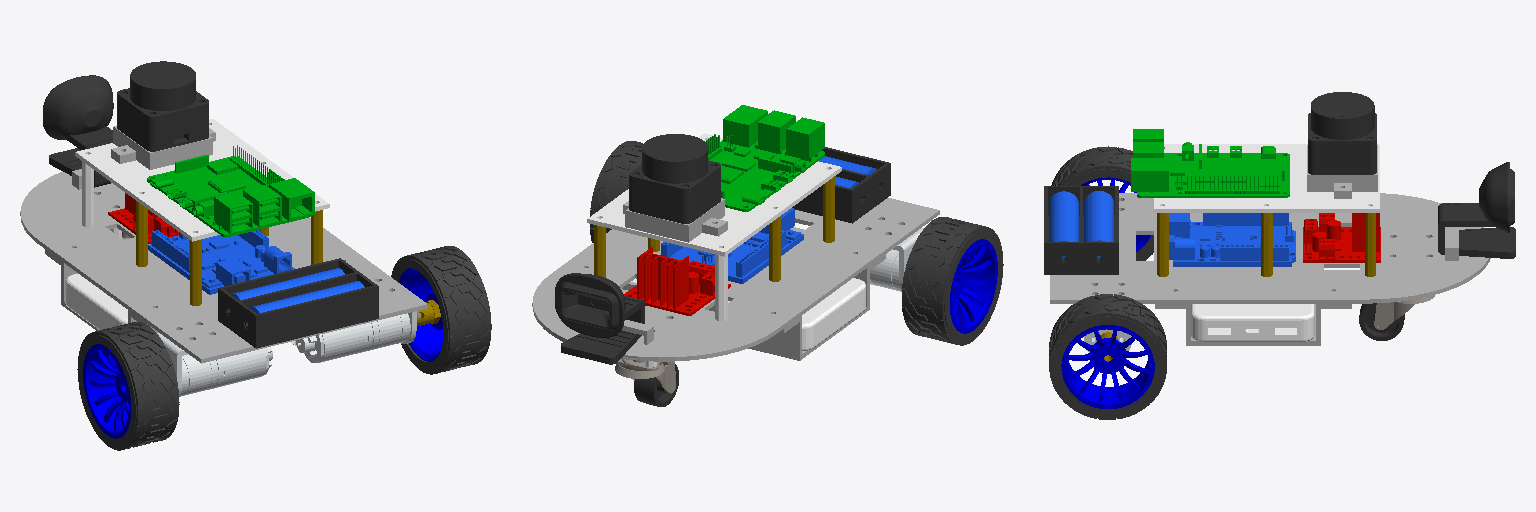
--- Render facts (derived) ---
3 views of the same robot in one strip: view 1: azimuth 30°, elevation 25°; view 2: azimuth 150°, elevation 25°; view 3: azimuth 270°, elevation 25° (orthographic).
Robot: diff_robot_dan_description_core — 40 links, 39 joints (4 continuous, 35 fixed); root link base_link; default pose: all joints at 0.
Visible links, largest first — view 1: base_platform, raspberry, battery_holder, neumatic_left, neumatic_right, lidar, sup_platform, arduino, camera, ring_left, motor_right, motor_left (+11 smaller); view 2: base_platform, raspberry, neumatic_left, lidar, camera, sup_platform, driver, ring_left, battery_holder, arduino, power_bank, neumatic_right (+9 smaller); view 3: base_platform, raspberry, neumatic_right, arduino, sup_platform, lidar, camera, ring_right, power_bank, battery_holder, driver, neumatic_left (+9 smaller).
Boxes of the visible links, bbox=[...] form: base_platform: bbox=[20, 169, 427, 363]; raspberry: bbox=[147, 145, 314, 236]; battery_holder: bbox=[218, 258, 378, 348]; neumatic_left: bbox=[77, 322, 179, 450]; neumatic_right: bbox=[391, 246, 491, 374]; lidar: bbox=[117, 61, 208, 151]; sup_platform: bbox=[75, 119, 329, 241]; arduino: bbox=[148, 230, 294, 294]; camera: bbox=[43, 75, 113, 187]; ring_left: bbox=[83, 344, 130, 438]; motor_right: bbox=[291, 313, 410, 362]; motor_left: bbox=[180, 347, 272, 396]; base_platform: bbox=[532, 198, 939, 361]; raspberry: bbox=[706, 105, 824, 211]; neumatic_left: bbox=[902, 217, 1003, 345]; lidar: bbox=[629, 134, 720, 223]; camera: bbox=[555, 273, 644, 364]; sup_platform: bbox=[587, 133, 841, 256]; driver: bbox=[624, 247, 730, 315]; ring_left: bbox=[950, 239, 997, 333]; battery_holder: bbox=[792, 147, 890, 223]; arduino: bbox=[661, 208, 803, 283]; power_bank: bbox=[631, 278, 865, 350]; neumatic_right: bbox=[590, 141, 642, 242]; base_platform: bbox=[1050, 193, 1490, 303]; raspberry: bbox=[1131, 129, 1289, 197]; neumatic_right: bbox=[1049, 294, 1166, 419]; arduino: bbox=[1169, 213, 1295, 266]; sup_platform: bbox=[1154, 144, 1379, 212]; lidar: bbox=[1308, 92, 1376, 174]; camera: bbox=[1438, 162, 1515, 258]; ring_right: bbox=[1061, 325, 1154, 408]; power_bank: bbox=[1191, 304, 1314, 341]; battery_holder: bbox=[1044, 186, 1118, 274]; driver: bbox=[1303, 213, 1380, 262]; neumatic_left: bbox=[1051, 146, 1153, 260].
Bounding box of the posed robot: 0.2193 × 0.2608 × 0.1419 m (x, y, z).
Meshes: 39 distinct files referenced, 39 mesh visuals loaded (39 binary STL).

URDF robot description (diff_robot_dan_description_core):
<?xml version="1.0" encoding="utf-8"?>
<robot
  name="diff_robot_dan_description_core" 
  xmlns:xacro="http://www.ros.org/wiki/xacro">

  <link name="base_link"/>
  
  <link
    name="base_platform">
    <inertial>
      <origin
        xyz="-4.2767E-06 0.029905 0.0013432"
        rpy="0 0 0" />
      <mass
        value="0.08062" />
      <inertia
        ixx="0.00037375"
        ixy="-1.0976E-08"
        ixz="-2.7281E-11"
        iyy="0.00012439"
        iyz="-7.8943E-07"
        izz="0.00049795" />
    </inertial>
    <visual>
      <origin
        xyz="0 0 0"
        rpy="0 0 0" />
      <geometry>
        <mesh
          filename="package://diff_robot_dan_description/meshes/base_platform.STL" />
      </geometry>
      <material
        name="">
        <color
          rgba="0.75294 0.75294 0.75294 1" />
      </material>
    </visual>
    <collision>
      <origin
        xyz="0 0 0"
        rpy="0 0 0" />
      <geometry>
        <mesh
          filename="package://diff_robot_dan_description/meshes/base_platform.STL" />
      </geometry>
    </collision>
  </link>

  <joint
    name="base_joint"
    type="fixed">
    <origin
      xyz="0 0 0"
      rpy="0 0 0" />
    <parent
      link="base_link" />
    <child
      link="base_platform" />
    <axis
      xyz="0 0 0" />
  </joint> 

  <link
    name="motor_support_left">
    <inertial>
      <origin
        xyz="4.3741E-08 0.0086356 0.0087139"
        rpy="0 0 0" />
      <mass
        value="0.011753" />
      <inertia
        ixx="2.3658E-06"
        ixy="-4.3673E-12"
        ixz="-2.8469E-11"
        iyy="1.7995E-06"
        iyz="-6.6689E-07"
        izz="1.9957E-06" />
    </inertial>
    <visual>
      <origin
        xyz="0 0 0"
        rpy="0 0 0" />
      <geometry>
        <mesh
          filename="package://diff_robot_dan_description/meshes/motor_support_left.STL" />
      </geometry>
      <material
        name="">
        <color
          rgba="0.89804 0.91765 0.92941 1" />
      </material>
    </visual>
    <collision>
      <origin
        xyz="0 0 0"
        rpy="0 0 0" />
      <geometry>
        <mesh
          filename="package://diff_robot_dan_description/meshes/motor_support_left.STL" />
      </geometry>
    </collision>
  </link>
  <joint
    name="support_left_to_base"
    type="fixed">
    <origin
      xyz="-0.05605 -0.05525 0"
      rpy="3.1416 0 -1.5708" />
    <parent
      link="base_platform" />
    <child
      link="motor_support_left" />
    <axis
      xyz="0 0 0" />
  </joint>
  <link
    name="motor_left">
    <inertial>
      <origin
        xyz="-7.2844E-06 -2.8965E-06 -0.0017141"
        rpy="0 0 0" />
      <mass
        value="0.069439" />
      <inertia
        ixx="2.1098E-05"
        ixy="-3.9135E-09"
        ixz="-3.1834E-09"
        iyy="2.1088E-05"
        iyz="-1.4966E-08"
        izz="4.9519E-06" />
    </inertial>
    <visual>
      <origin
        xyz="0 0 0"
        rpy="0 0 0" />
      <geometry>
        <mesh
          filename="package://diff_robot_dan_description/meshes/motor_left.STL" />
      </geometry>
      <material
        name="">
        <color
          rgba="0.89804 0.91765 0.92941 1" />
      </material>
    </visual>
    <collision>
      <origin
        xyz="0 0 0"
        rpy="0 0 0" />
      <geometry>
        <mesh
          filename="package://diff_robot_dan_description/meshes/motor_left.STL" />
      </geometry>
    </collision>
  </link>
  <joint
    name="motor_left_to_motor_support"
    type="fixed">
    <origin
      xyz="0 -0.01155 0.020153"
      rpy="-1.5708 -1.5582 0" />
    <parent
      link="motor_support_left" />
    <child
      link="motor_left" />
    <axis
      xyz="0 0 0" />
  </joint>
  <link
    name="shaft_left">
    <inertial>
      <origin
        xyz="9.3516E-05 -4.0811E-09 0.0062268"
        rpy="0 0 0" />
      <mass
        value="0.0012091" />
      <inertia
        ixx="1.7661E-08"
        ixy="-8.7073E-14"
        ixz="-2.7402E-10"
        iyy="1.7488E-08"
        iyz="-1.1687E-13"
        izz="2.3255E-09" />
    </inertial>
    <visual>
      <origin
        xyz="0 0 0"
        rpy="0 0 0" />
      <geometry>
        <mesh
          filename="package://diff_robot_dan_description/meshes/shaft_left.STL" />
      </geometry>
      <material
        name="">
        <color
          rgba="0.64706 0.61961 0.58824 1" />
      </material>
    </visual>
    <collision>
      <origin
        xyz="0 0 0"
        rpy="0 0 0" />
      <geometry>
        <mesh
          filename="package://diff_robot_dan_description/meshes/shaft_left.STL" />
      </geometry>
    </collision>
  </link>
  <joint
    name="shaft_left_to_motor"
    type="continuous">
    <origin
      xyz="9.7282E-05 0 0.026545"
      rpy="0 0 -1.3474" />
    <parent
      link="motor_left" />
    <child
      link="shaft_left" />
    <axis
      xyz="0 0 1" />
    <limit
      effort="1.0297"
      velocity="10.742" />
  </joint>
  <link
    name="coupling_left">
    <inertial>
      <origin
        xyz="-1.758E-08 0.011432 -5.9284E-10"
        rpy="0 0 0" />
      <mass
        value="0.015207" />
      <inertia
        ixx="7.3793E-07"
        ixy="-2.821E-12"
        ixz="4.7539E-13"
        iyy="2.7775E-07"
        iyz="-2.0427E-12"
        izz="7.4797E-07" />
    </inertial>
    <visual>
      <origin
        xyz="0 0 0"
        rpy="0 0 0" />
      <geometry>
        <mesh
          filename="package://diff_robot_dan_description/meshes/coupling_left.STL" />
      </geometry>
      <material
        name="">
        <color
          rgba="0.64706 0.51765 0 1" />
      </material>
    </visual>
    <collision>
      <origin
        xyz="0 0 0"
        rpy="0 0 0" />
      <geometry>
        <mesh
          filename="package://diff_robot_dan_description/meshes/coupling_left.STL" />
      </geometry>
    </collision>
  </link>
  <joint
    name="coupling_left_to_motor"
    type="fixed">
    <origin
      xyz="0 0 0.0046"
      rpy="1.5708 0 1.7908" />
    <parent
      link="shaft_left" />
    <child
      link="coupling_left" />
    <axis
      xyz="0 0 0" />
  </joint>
  <link
    name="ring_left">
    <inertial>
      <origin
        xyz="1.4681E-08 -0.0013913 3.3977E-09"
        rpy="0 0 0" />
      <mass
        value="0.010918" />
      <inertia
        ixx="2.9186E-06"
        ixy="-5.2164E-12"
        ixz="-9.9865E-13"
        iyy="4.8444E-06"
        iyz="9.3002E-12"
        izz="2.9187E-06" />
    </inertial>
    <visual>
      <origin
        xyz="0 0 0"
        rpy="0 0 0" />
      <geometry>
        <mesh
          filename="package://diff_robot_dan_description/meshes/ring_left.STL" />
      </geometry>
      <material
        name="">
        <color
          rgba="0 0 1 1" />
      </material>
    </visual>
    <collision>
      <origin
        xyz="0 0 0"
        rpy="0 0 0" />
      <geometry>
        <mesh
          filename="package://diff_robot_dan_description/meshes/ring_left.STL" />
      </geometry>
    </collision>
  </link>
  <joint
    name="ring_left_to_coupling"
    type="fixed">
    <origin
      xyz="0 0.021355 0"
      rpy="3.1416 0 0" />
    <parent
      link="coupling_left" />
    <child
      link="ring_left" />
    <axis
      xyz="0 0 0" />
  </joint>
  <link
    name="neumatic_left">
    <inertial>
      <origin
        xyz="-5.051E-08 -1.2407E-06 -3.994E-10"
        rpy="0 0 0" />
      <mass
        value="0.039917" />
      <inertia
        ixx="1.9377E-05"
        ixy="2.9484E-13"
        ixz="1.4146E-13"
        iyy="3.4105E-05"
        iyz="6.8997E-12"
        izz="1.9378E-05" />
    </inertial>
    <visual>
      <origin
        xyz="0 0 0"
        rpy="0 0 0" />
      <geometry>
        <mesh
          filename="package://diff_robot_dan_description/meshes/neumatic_left.STL" />
      </geometry>
      <material
        name="">
        <color
          rgba="0.29804 0.29804 0.29804 1" />
      </material>
    </visual>
    <collision>
      <origin
        xyz="0 0 0"
        rpy="0 0 0" />
      <geometry>
        <mesh
          filename="package://diff_robot_dan_description/meshes/neumatic_left.STL" />
      </geometry>
    </collision>
  </link>
  <joint
    name="neumatic_left_to_ring"
    type="fixed">
    <origin
      xyz="-8.7612E-05 0.00055 4.2289E-05"
      rpy="-3.1416 -0.4497 3.1416" />
    <parent
      link="ring_left" />
    <child
      link="neumatic_left" />
    <axis
      xyz="0 0 0" />
  </joint>
  <link
    name="motor_support_right">
    <inertial>
      <origin
        xyz="4.3741E-08 0.0086356 0.0087139"
        rpy="0 0 0" />
      <mass
        value="0.011753" />
      <inertia
        ixx="2.3658E-06"
        ixy="-4.3673E-12"
        ixz="-2.8469E-11"
        iyy="1.7995E-06"
        iyz="-6.6689E-07"
        izz="1.9957E-06" />
    </inertial>
    <visual>
      <origin
        xyz="0 0 0"
        rpy="0 0 0" />
      <geometry>
        <mesh
          filename="package://diff_robot_dan_description/meshes/motor_support_right.STL" />
      </geometry>
      <material
        name="">
        <color
          rgba="0.89804 0.91765 0.92941 1" />
      </material>
    </visual>
    <collision>
      <origin
        xyz="0 0 0"
        rpy="0 0 0" />
      <geometry>
        <mesh
          filename="package://diff_robot_dan_description/meshes/motor_support_right.STL" />
      </geometry>
    </collision>
  </link>
  <joint
    name="support_right_to_base"
    type="fixed">
    <origin
      xyz="0.05605 -0.05525 0"
      rpy="-3.1416 0 1.5708" />
    <parent
      link="base_platform" />
    <child
      link="motor_support_right" />
    <axis
      xyz="0 0 0" />
  </joint>
  <link
    name="motor_right">
    <inertial>
      <origin
        xyz="-7.2843E-06 -2.8966E-06 -0.0017141"
        rpy="0 0 0" />
      <mass
        value="0.069439" />
      <inertia
        ixx="2.1098E-05"
        ixy="-3.9135E-09"
        ixz="-3.1834E-09"
        iyy="2.1088E-05"
        iyz="-1.4966E-08"
        izz="4.9519E-06" />
    </inertial>
    <visual>
      <origin
        xyz="0 0 0"
        rpy="0 0 0" />
      <geometry>
        <mesh
          filename="package://diff_robot_dan_description/meshes/motor_right.STL" />
      </geometry>
      <material
        name="">
        <color
          rgba="0.89804 0.91765 0.92941 1" />
      </material>
    </visual>
    <collision>
      <origin
        xyz="0 0 0"
        rpy="0 0 0" />
      <geometry>
        <mesh
          filename="package://diff_robot_dan_description/meshes/motor_right.STL" />
      </geometry>
    </collision>
  </link>
  <joint
    name="motor_right_to_support"
    type="fixed">
    <origin
      xyz="0 -0.01155 0.02025"
      rpy="1.5708 1.5708 -3.1416" />
    <parent
      link="motor_support_right" />
    <child
      link="motor_right" />
    <axis
      xyz="0 0 0" />
  </joint>
  <link
    name="shaft_right">
    <inertial>
      <origin
        xyz="9.35164931870833E-05 3.3094464453598E-08 0.0062267898913865"
        rpy="0 0 0" />
      <mass
        value="0.00120914331428052" />
      <inertia
        ixx="1.76613856649872E-08"
        ixy="-8.69060362380142E-14"
        ixz="-2.74018364433886E-10"
        iyy="1.74883320817116E-08"
        iyz="-1.1666347166096E-13"
        izz="2.32545172058691E-09" />
    </inertial>
    <visual>
      <origin
        xyz="0 0 0"
        rpy="0 0 0" />
      <geometry>
        <mesh
          filename="package://diff_robot_dan_description/meshes/shaft_right.STL" />
      </geometry>
      <material
        name="">
        <color
          rgba="0.647058823529412 0.619607843137255 0.588235294117647 1" />
      </material>
    </visual>
    <collision>
      <origin
        xyz="0 0 0"
        rpy="0 0 0" />
      <geometry>
        <mesh
          filename="package://diff_robot_dan_description/meshes/shaft_right.STL" />
      </geometry>
    </collision>
  </link>
  <joint
    name="shaft_right_to_motor"
    type="continuous">
    <origin
      xyz="0 0 0.026545"
      rpy="0 0 -1.8068" />
    <parent
      link="motor_right" />
    <child
      link="shaft_right" />
    <axis
      xyz="0 0 1" />
    <limit
      effort="1.0297"
      velocity="10.472" />
  </joint>
  <link
    name="coupling_right">
    <inertial>
      <origin
        xyz="-1.73707862399786E-08 0.0114319692475676 -3.0039553483574E-10"
        rpy="0 0 0" />
      <mass
        value="0.0152069037997272" />
      <inertia
        ixx="7.37926487293068E-07"
        ixy="-2.80610855598411E-12"
        ixz="4.83132664105218E-13"
        iyy="2.77753480931107E-07"
        iyz="-2.03744847744167E-12"
        izz="7.47968244758709E-07" />
    </inertial>
    <visual>
      <origin
        xyz="0 0 0"
        rpy="0 0 0" />
      <geometry>
        <mesh
          filename="package://diff_robot_dan_description/meshes/coupling_right.STL" />
      </geometry>
      <material
        name="">
        <color
          rgba="0.647058823529412 0.517647058823529 0 1" />
      </material>
    </visual>
    <collision>
      <origin
        xyz="0 0 0"
        rpy="0 0 0" />
      <geometry>
        <mesh
          filename="package://diff_robot_dan_description/meshes/coupling_right.STL" />
      </geometry>
    </collision>
  </link>
  <joint
    name="copling_right_to_shaft"
    type="fixed">
    <origin
      xyz="0 0 0.0046"
      rpy="1.5708 0 -1.7908" />
    <parent
      link="shaft_right" />
    <child
      link="coupling_right" />
    <axis
      xyz="0 0 0" />
  </joint>
  <link
    name="ring_right">
    <inertial>
      <origin
        xyz="1.4681E-08 -0.0013913 3.3977E-09"
        rpy="0 0 0" />
      <mass
        value="0.010918" />
      <inertia
        ixx="2.9186E-06"
        ixy="-5.2164E-12"
        ixz="-9.9865E-13"
        iyy="4.8444E-06"
        iyz="9.3002E-12"
        izz="2.9187E-06" />
    </inertial>
    <visual>
      <origin
        xyz="0 0 0"
        rpy="0 0 0" />
      <geometry>
        <mesh
          filename="package://diff_robot_dan_description/meshes/ring_right.STL" />
      </geometry>
      <material
        name="">
        <color
          rgba="0 0 1 1" />
      </material>
    </visual>
    <collision>
      <origin
        xyz="0 0 0"
        rpy="0 0 0" />
      <geometry>
        <mesh
          filename="package://diff_robot_dan_description/meshes/ring_right.STL" />
      </geometry>
    </collision>
  </link>
  <joint
    name="ring_right_to_coupling"
    type="fixed">
    <origin
      xyz="0 0.021355 0"
      rpy="3.1416 0 0" />
    <parent
      link="coupling_right" />
    <child
      link="ring_right" />
    <axis
      xyz="0 0 0" />
  </joint>
  <link
    name="neumatic_right">
    <inertial>
      <origin
        xyz="-5.04288356628635E-08 -1.24068466458849E-06 -4.29302794702213E-10"
        rpy="0 0 0" />
      <mass
        value="0.039916568660989" />
      <inertia
        ixx="1.93774188193623E-05"
        ixy="2.86801069507243E-13"
        ixz="1.46766810443803E-13"
        iyy="3.41045674039519E-05"
        iyz="6.90707373043649E-12"
        izz="1.9377801310557E-05" />
    </inertial>
    <visual>
      <origin
        xyz="0 0 0"
        rpy="0 0 0" />
      <geometry>
        <mesh
          filename="package://diff_robot_dan_description/meshes/neumatic_right.STL" />
      </geometry>
      <material
        name="">
        <color
          rgba="0.298039215686275 0.298039215686275 0.298039215686275 1" />
      </material>
    </visual>
    <collision>
      <origin
        xyz="0 0 0"
        rpy="0 0 0" />
      <geometry>
        <mesh
          filename="package://diff_robot_dan_description/meshes/neumatic_right.STL" />
      </geometry>
    </collision>
  </link>
  <joint
    name="neumatic_right_to_ring"
    type="fixed">
    <origin
      xyz="0 0.00055 0"
      rpy="0 -0.4497 0" />
    <parent
      link="ring_right" />
    <child
      link="neumatic_right" />
    <axis
      xyz="0 0 0" />
  </joint>
  <link
    name="battery_holder">
    <inertial>
      <origin
        xyz="-1.9815E-10 4.9468E-10 0.0069931"
        rpy="0 0 0" />
      <mass
        value="0.021448" />
      <inertia
        ixx="4.8979E-06"
        ixy="1.0061E-14"
        ixz="2.4403E-11"
        iyy="1.3843E-05"
        iyz="-6.5693E-15"
        izz="1.7136E-05" />
    </inertial>
    <visual>
      <origin
        xyz="0 0 0"
        rpy="0 0 0" />
      <geometry>
        <mesh
          filename="package://diff_robot_dan_description/meshes/battery_holder.STL" />
      </geometry>
      <material
        name="">
        <color
          rgba="0.25098 0.25098 0.25098 1" />
      </material>
    </visual>
    <collision>
      <origin
        xyz="0 0 0"
        rpy="0 0 0" />
      <geometry>
        <mesh
          filename="package://diff_robot_dan_description/meshes/battery_holder.STL" />
      </geometry>
    </collision>
  </link>
  <joint
    name="battery_to_base"
    type="fixed">
    <origin
      xyz="0 -0.07 0.0025"
      rpy="0 0 0" />
    <parent
      link="base_platform" />
    <child
      link="battery_holder" />
    <axis
      xyz="0 0 0" />
  </joint>
  <link
    name="battery_1">
    <inertial>
      <origin
        xyz="1.398E-08 1.9976E-09 0.00024774"
        rpy="0 0 0" />
      <mass
        value="0.16303" />
      <inertia
        ixx="6.0905E-05"
        ixy="5.9989E-13"
        ixz="-4.06E-11"
        iyy="6.0905E-05"
        iyz="-3.4902E-11"
        izz="5.8658E-06" />
    </inertial>
    <visual>
      <origin
        xyz="0 0 0"
        rpy="0 0 0" />
      <geometry>
        <mesh
          filename="package://diff_robot_dan_description/meshes/battery_1.STL" />
      </geometry>
      <material
        name="">
        <color
          rgba="0.161 0.435 1 1" />
      </material>
    </visual>
    <collision>
      <origin
        xyz="0 0 0"
        rpy="0 0 0" />
      <geometry>
        <mesh
          filename="package://diff_robot_dan_description/meshes/battery_1.STL" />
      </geometry>
    </collision>
  </link>
  <joint
    name="battery_1_to_holder"
    type="fixed">
    <origin
      xyz="0 -0.00975 0.01"
      rpy="-1.5708 0 -1.5708" />
    <parent
      link="battery_holder" />
    <child
      link="battery_1" />
    <axis
      xyz="0 0 1" />
  </joint>
  <link
    name="battery_2">
    <inertial>
      <origin
        xyz="1.398E-08 -1.9976E-09 -0.00024774"
        rpy="0 0 0" />
      <mass
        value="0.16303" />
      <inertia
        ixx="6.0905E-05"
        ixy="-5.9989E-13"
        ixz="4.06E-11"
        iyy="6.0905E-05"
        iyz="-3.4902E-11"
        izz="5.8658E-06" />
    </inertial>
    <visual>
      <origin
        xyz="0 0 0"
        rpy="0 0 0" />
      <geometry>
        <mesh
          filename="package://diff_robot_dan_description/meshes/battery_2.STL" />
      </geometry>
      <material
        name="">
        <color
          rgba="0.161 0.435 1 1" />
      </material>
    </visual>
    <collision>
      <origin
        xyz="0 0 0"
        rpy="0 0 0" />
      <geometry>
        <mesh
          filename="package://diff_robot_dan_description/meshes/battery_2.STL" />
      </geometry>
    </collision>
  </link>
  <joint
    name="battery_2_to_holder"
    type="fixed">
    <origin
      xyz="0 0.00975 0.01"
      rpy="1.5708 0 1.5708" />
    <parent
      link="battery_holder" />
    <child
      link="battery_2" />
    <axis
      xyz="0 0 1" />
  </joint>
  <link
    name="arduino">
    <inertial>
      <origin
        xyz="-0.0038426 0.0032752 -6.6854E-05"
        rpy="0 0 0" />
      <mass
        value="0.036702" />
      <inertia
        ixx="1.0144E-05"
        ixy="5.699E-07"
        ixz="-1.3819E-07"
        iyy="2.5461E-05"
        iyz="2.0305E-08"
        izz="1.6029E-05" />
    </inertial>
    <visual>
      <origin
        xyz="0 0 0"
        rpy="0 0 0" />
      <geometry>
        <mesh
          filename="package://diff_robot_dan_description/meshes/arduino.STL" />
      </geometry>
      <material
        name="">
        <color
          rgba="0.161 0.435 1 1" />
      </material>
    </visual>
    <collision>
      <origin
        xyz="0 0 0"
        rpy="0 0 0" />
      <geometry>
        <mesh
          filename="package://diff_robot_dan_description/meshes/arduino.STL" />
      </geometry>
    </collision>
  </link>
  <joint
    name="arduino_to_base"
    type="fixed">
    <origin
      xyz="0.001 0.0149 0.0025"
      rpy="1.5708 0 1.5708" />
    <parent
      link="base_platform" />
    <child
      link="arduino" />
    <axis
      xyz="0 0 0" />
  </joint>
  <link
    name="driver">
    <inertial>
      <origin
        xyz="-0.00053794 0.0010488 0.0067706"
        rpy="0 0 0" />
      <mass
        value="0.021255" />
      <inertia
        ixx="4.3343E-06"
        ixy="-1.4594E-07"
        ixz="-3.4291E-09"
        iyy="3.3344E-06"
        iyz="-7.0259E-07"
        izz="5.8242E-06" />
    </inertial>
    <visual>
      <origin
        xyz="0 0 0"
        rpy="0 0 0" />
      <geometry>
        <mesh
          filename="package://diff_robot_dan_description/meshes/driver.STL" />
      </geometry>
      <material
        name="">
        <color
          rgba="0.894 0.039 0 1" />
      </material>
    </visual>
    <collision>
      <origin
        xyz="0 0 0"
        rpy="0 0 0" />
      <geometry>
        <mesh
          filename="package://diff_robot_dan_description/meshes/driver.STL" />
      </geometry>
    </collision>
  </link>
  <joint
    name="driver_to_base"
    type="fixed">
    <origin
      xyz="0 0.07415 0.0025"
      rpy="0 0 0" />
    <parent
      link="base_platform" />
    <child
      link="driver" />
    <axis
      xyz="0 0 0" />
  </joint>
  <link
    name="hex_support_s1">
    <inertial>
      <origin
        xyz="-3.873E-08 -1.4267E-09 0.0089627"
        rpy="0 0 0" />
      <mass
        value="0.00039676" />
      <inertia
        ixx="1.1512E-08"
        ixy="3.4795E-15"
        ixz="1.7979E-15"
        iyy="1.1511E-08"
        iyz="5.6571E-15"
        izz="1.948E-09" />
    </inertial>
    <visual>
      <origin
        xyz="0 0 0"
        rpy="0 0 0" />
      <geometry>
        <mesh
          filename="package://diff_robot_dan_description/meshes/hex_support_s1.STL" />
      </geometry>
      <material
        name="">
        <color
          rgba="1 1 1 1" />
      </material>
    </visual>
    <collision>
      <origin
        xyz="0 0 0"
        rpy="0 0 0" />
      <geometry>
        <mesh
          filename="package://diff_robot_dan_description/meshes/hex_support_s1.STL" />
      </geometry>
    </collision>
  </link>
  <joint
    name="hex_support_s1_to_base"
    type="fixed">
    <origin
      xyz="0.01285 0.1025 0"
      rpy="-3.1416 0 0.5236" />
    <parent
      link="base_platform" />
    <child
      link="hex_support_s1" />
    <axis
      xyz="0 0 0" />
  </joint>
  <link
    name="hex_support_s2">
    <inertial>
      <origin
        xyz="-3.873E-08 -1.4267E-09 0.0089627"
        rpy="0 0 0" />
      <mass
        value="0.00039676" />
      <inertia
        ixx="1.1512E-08"
        ixy="3.4795E-15"
        ixz="1.7979E-15"
        iyy="1.1511E-08"
        iyz="5.6571E-15"
        izz="1.948E-09" />
    </inertial>
    <visual>
      <origin
        xyz="0 0 0"
        rpy="0 0 0" />
      <geometry>
        <mesh
          filename="package://diff_robot_dan_description/meshes/hex_support_s2.STL" />
      </geometry>
      <material
        name="">
        <color
          rgba="1 1 1 1" />
      </material>
    </visual>
    <collision>
      <origin
        xyz="0 0 0"
        rpy="0 0 0" />
      <geometry>
        <mesh
          filename="package://diff_robot_dan_description/meshes/hex_support_s2.STL" />
      </geometry>
    </collision>
  </link>
  <joint
    name="hex_support_s2_to_base"
    type="fixed">
    <origin
      xyz="0.01285 0.1225 -0.0179"
      rpy="0 0 -0.5236" />
    <parent
      link="base_platform" />
    <child
      link="hex_support_s2" />
    <axis
      xyz="0 0 0" />
  </joint>
  <link
    name="hex_support_s3">
    <inertial>
      <origin
        xyz="-3.7544E-08 -2.1128E-09 0.0089627"
        rpy="0 0 0" />
      <mass
        value="0.00039676" />
      <inertia
        ixx="1.1512E-08"
        ixy="3.3218E-15"
        ixz="1.8189E-15"
        iyy="1.1511E-08"
        iyz="5.6406E-15"
        izz="1.948E-09" />
    </inertial>
    <visual>
      <origin
        xyz="0 0 0"
        rpy="0 0 0" />
      <geometry>
        <mesh
          filename="package://diff_robot_dan_description/meshes/hex_support_s3.STL" />
      </geometry>
      <material
        name="">
        <color
          rgba="1 1 1 1" />
      </material>
    </visual>
    <collision>
      <origin
        xyz="0 0 0"
        rpy="0 0 0" />
      <geometry>
        <mesh
          filename="package://diff_robot_dan_description/meshes/hex_support_s3.STL" />
      </geometry>
    </collision>
  </link>
  <joint
    name="hex_support_s3_to_base"
    type="fixed">
    <origin
      xyz="-0.01285 0.1025 0"
      rpy="-3.1416 0 2.618" />
    <parent
      link="base_platform" />
    <child
      link="hex_support_s3" />
    <axis
      xyz="0 0 0" />
  </joint>
  <link
    name="hex_support_s4">
    <inertial>
      <origin
        xyz="-3.7544E-08 -2.1128E-09 0.0089627"
        rpy="0 0 0" />
      <mass
        value="0.00039676" />
      <inertia
        ixx="1.1512E-08"
        ixy="3.3218E-15"
        ixz="1.8189E-15"
        iyy="1.1511E-08"
        iyz="5.6406E-15"
        izz="1.948E-09" />
    </inertial>
    <visual>
      <origin
        xyz="0 0 0"
        rpy="0 0 0" />
      <geometry>
        <mesh
          filename="package://diff_robot_dan_description/meshes/hex_support_s4.STL" />
      </geometry>
      <material
        name="">
        <color
          rgba="1 1 1 1" />
      </material>
    </visual>
    <collision>
      <origin
        xyz="0 0 0"
        rpy="0 0 0" />
      <geometry>
        <mesh
          filename="package://diff_robot_dan_description/meshes/hex_support_s4.STL" />
      </geometry>
    </collision>
  </link>
  <joint
    name="hex_support_s4_to_base"
    type="fixed">
    <origin
      xyz="-0.01285 0.1225 -0.0179"
      rpy="0 0 -2.618" />
    <parent
      link="base_platform" />
    <child
      link="hex_support_s4" />
    <axis
      xyz="0 0 0" />
  </joint>
  <link
    name="center_wheel_support">
    <inertial>
      <origin
        xyz="-7.8425E-12 0.0025704 -1.0795E-09"
        rpy="0 0 0" />
      <mass
        value="0.010585" />
      <inertia
        ixx="6.8468E-07"
        ixy="4.0238E-17"
        ixz="-7.8111E-14"
        iyy="1.2612E-06"
        iyz="-3.3077E-14"
        izz="6.2217E-07" />
    </inertial>
    <visual>
      <origin
        xyz="0 0 0"
        rpy="0 0 0" />
      <geometry>
        <mesh
          filename="package://diff_robot_dan_description/meshes/center_wheel_support.STL" />
      </geometry>
      <material
        name="">
        <color
          rgba="0.64706 0.61961 0.58824 1" />
      </material>
    </visual>
    <collision>
      <origin
        xyz="0 0 0"
        rpy="0 0 0" />
      <geometry>
        <mesh
          filename="package://diff_robot_dan_description/meshes/center_wheel_support.STL" />
      </geometry>
    </collision>
  </link>
  <joint
    name="center_support_to_base"
    type="fixed">
    <origin
      xyz="0 0.1125 -0.0179"
      rpy="-1.5708 0 1.5708" />
    <parent
      link="base_platform" />
    <child
      link="center_wheel_support" />
    <axis
      xyz="0 0 0" />
  </joint>
  <link
    name="roll_support">
    <inertial>
      <origin
        xyz="-0.0059893 0.0047248 3.4874E-09"
        rpy="0 0 0" />
      <mass
        value="0.016331" />
      <inertia
        ixx="1.5018E-06"
        ixy="3.2726E-07"
        ixz="-1.7434E-13"
        iyy="2.2832E-06"
        iyz="-3.5076E-13"
        izz="1.5926E-06" />
    </inertial>
    <visual>
      <origin
        xyz="0 0 0"
        rpy="0 0 0" />
      <geometry>
        <mesh
          filename="package://diff_robot_dan_description/meshes/roll_support.STL" />
      </geometry>
      <material
        name="">
        <color
          rgba="0.64706 0.61961 0.58824 1" />
      </material>
    </visual>
    <collision>
      <origin
        xyz="0 0 0"
        rpy="0 0 0" />
      <geometry>
        <mesh
          filename="package://diff_robot_dan_description/meshes/roll_support.STL" />
      </geometry>
    </collision>
  </link>
  <joint
    name="roll_support_to_wheel_support"
    type="continuous">
    <origin
      xyz="0 0.004693 0"
      rpy="0 0.066802 0" />
    <parent
      link="center_wheel_support" />
    <child
      link="roll_support" />
    <axis
      xyz="0 1 0" />
  </joint>
  <link
    name="central_shaft">
    <inertial>
      <origin
        xyz="0 -2.7756E-17 2.4286E-17"
        rpy="0 0 0" />
      <mass
        value="0.0031416" />
      <inertia
        ixx="1.0963E-07"
        ixy="2.647E-23"
        ixz="1.7288E-22"
        iyy="1.0963E-07"
        iyz="6.4184E-23"
        izz="9.8175E-09" />
    </inertial>
    <visual>
      <origin
        xyz="0 0 0"
        rpy="0 0 0" />
      <geometry>
        <mesh
          filename="package://diff_robot_dan_description/meshes/central_shaft.STL" />
      </geometry>
      <material
        name="">
        <color
          rgba="0.64706 0.61961 0.58824 1" />
      </material>
    </visual>
    <collision>
      <origin
        xyz="0 0 0"
        rpy="0 0 0" />
      <geometry>
        <mesh
          filename="package://diff_robot_dan_description/meshes/central_shaft.STL" />
      </geometry>
    </collision>
  </link>
  <joint
    name="shaft_to_roll_support"
    type="continuous">
    <origin
      xyz="-0.016111 0.018272 4.708E-05"
      rpy="0 0 0" />
    <parent
      link="roll_support" />
    <child
      link="central_shaft" />
    <axis
      xyz="0 0 1" />
  </joint>
  <link
    name="central_wheel">
    <inertial>
      <origin
        xyz="-5.2042E-18 1.641E-14 -4.2882E-15"
        rpy="0 0 0" />
      <mass
        value="0.0043493" />
      <inertia
        ixx="4.2486E-07"
        ixy="-9.9282E-22"
        ixz="2.0349E-22"
        iyy="2.6998E-07"
        iyz="-1.1978E-21"
        izz="2.6998E-07" />
    </inertial>
    <visual>
      <origin
        xyz="0 0 0"
        rpy="0 0 0" />
      <geometry>
        <mesh
          filename="package://diff_robot_dan_description/meshes/central_wheel.STL" />
      </geometry>
      <material
        name="">
        <color
          rgba="0.25098 0.25098 0.25098 1" />
      </material>
    </visual>
    <collision>
      <origin
        xyz="0 0 0"
        rpy="0 0 0" />
      <geometry>
        <mesh
          filename="package://diff_robot_dan_description/meshes/central_wheel.STL" />
      </geometry>
    </collision>
  </link>
  <joint
    name="central_wheel_to_shaft"
    type="fixed">
    <origin
      xyz="0 0 1.4798E-05"
      rpy="2.4245 1.5708 0" />
    <parent
      link="central_shaft" />
    <child
      link="central_wheel" />
    <axis
      xyz="0 0 0" />
  </joint>
  <link
    name="sup_platform">
    <inertial>
      <origin
        xyz="-9.3058E-10 -8.7809E-06 0.00125"
        rpy="0 0 0" />
      <mass
        value="0.026875" />
      <inertia
        ixx="3.4898E-05"
        ixy="2.6462E-14"
        ixz="-1.1073E-19"
        iyy="1.6106E-05"
        iyz="2.362E-15"
        izz="5.0976E-05" />
    </inertial>
    <visual>
      <origin
        xyz="0 0 0"
        rpy="0 0 0" />
      <geometry>
        <mesh
          filename="package://diff_robot_dan_description/meshes/sup_platform.STL" />
      </geometry>
      <material
        name="">
        <color
          rgba="1 1 1 1" />
      </material>
    </visual>
    <collision>
      <origin
        xyz="0 0 0"
        rpy="0 0 0" />
      <geometry>
        <mesh
          filename="package://diff_robot_dan_description/meshes/sup_platform.STL" />
      </geometry>
    </collision>
  </link>
  <joint
    name="sup_platform_to_base"
    type="fixed">
    <origin
      xyz="0 0.0325 0.0424"
      rpy="0 0 0" />
    <parent
      link="base_platform" />
    <child
      link="sup_platform" />
    <axis
      xyz="0 0 0" />
  </joint>
  <link
    name="raspberry">
    <inertial>
      <origin
        xyz="-0.012157 0.00086825 0.0050276"
        rpy="0 0 0" />
      <mass
        value="0.040232" />
      <inertia
        ixx="1.1791E-05"
        ixy="-8.0579E-08"
        ixz="2.863E-06"
        iyy="2.6906E-05"
        iyz="-5.6994E-07"
        izz="3.6557E-05" />
    </inertial>
    <visual>
      <origin
        xyz="0 0 0"
        rpy="0 0 0" />
      <geometry>
        <mesh
          filename="package://diff_robot_dan_description/meshes/raspberry.STL" />
      </geometry>
      <material
        name="">
        <color
          rgba="0 0.741 0.098 1" />
      </material>
    </visual>
    <collision>
      <origin
        xyz="0 0 0"
        rpy="0 0 0" />
      <geometry>
        <mesh
          filename="package://diff_robot_dan_description/meshes/raspberry.STL" />
      </geometry>
    </collision>
  </link>
  <joint
    name="raspberry_to_sup_base"
    type="fixed">
    <origin
      xyz="0.0023552 -0.030064 0.0025"
      rpy="-0.061358 0 1.5708" />
    <parent
      link="sup_platform" />
    <child
      link="raspberry" />
    <axis
      xyz="0 0 0" />
  </joint>
  <link
    name="lidar_base">
    <inertial>
      <origin
        xyz="4.76737475267162E-09 -2.34376004715209E-10 0.00517211597652074"
        rpy="0 0 0" />
      <mass
        value="0.0170174944442866" />
      <inertia
        ixx="2.30741133256961E-06"
        ixy="-1.10315764453569E-07"
        ixz="-1.3170258630919E-12"
        iyy="2.87577287694704E-06"
        iyz="1.11832991479685E-13"
        izz="4.78074170602697E-06" />
    </inertial>
    <visual>
      <origin
        xyz="0 0 0"
        rpy="0 0 0" />
      <geometry>
        <mesh
          filename="package://diff_robot_dan_description/meshes/lidar_base.STL" />
      </geometry>
      <material
        name="">
        <color
          rgba="0.752941176470588 0.752941176470588 0.752941176470588 1" />
      </material>
    </visual>
    <collision>
      <origin
        xyz="0 0 0"
        rpy="0 0 0" />
      <geometry>
        <mesh
          filename="package://diff_robot_dan_description/meshes/lidar_base.STL" />
      </geometry>
    </collision>
  </link>
  <joint
    name="lidar_base_to_sup_base"
    type="fixed">
    <origin
      xyz="0 0.042 0.0025"
      rpy="0 0 0" />
    <parent
      link="sup_platform" />
    <child
      link="lidar_base" />
    <axis
      xyz="0 0 0" />
  </joint>
  <link
    name="lidar">
    <inertial>
      <origin
        xyz="-8.65987423912112E-05 3.00342080120973E-07 -0.0158709631049187"
        rpy="0 0 0" />
      <mass
        value="0.0583443536768669" />
      <inertia
        ixx="1.11767591923787E-05"
        ixy="8.19309373146885E-08"
        ixz="6.12677214969589E-08"
        iyy="1.1094235674574E-05"
        iyz="3.01401445393558E-10"
        izz="1.24859796770116E-05" />
    </inertial>
    <visual>
      <origin
        xyz="0 0 0"
        rpy="0 0 0" />
      <geometry>
        <mesh
          filename="package://diff_robot_dan_description/meshes/lidar.STL" />
      </geometry>
      <material
        name="">
        <color
          rgba="0.250980392156863 0.250980392156863 0.250980392156863 1" />
      </material>
    </visual>
    <collision>
      <origin
        xyz="0 0 0"
        rpy="0 0 0" />
      <geometry>
        <mesh
          filename="package://diff_robot_dan_description/meshes/lidar.STL" />
      </geometry>
    </collision>
  </link>
  <joint
    name="lidar_to_lidar_base"
    type="fixed">
    <origin
      xyz="0 0 0.01"
      rpy="-3.1416 0 -1.5708" />
    <parent
      link="lidar_base" />
    <child
      link="lidar" />
    <axis
      xyz="0 0 0" />
  </joint>
  <link
    name="power_bank_support">
    <inertial>
      <origin
        xyz="-4.3276E-10 -0.034501 -0.018512"
        rpy="0 0 0" />
      <mass
        value="0.054871" />
      <inertia
        ixx="5.3299E-05"
        ixy="6.7817E-15"
        ixz="3.5306E-13"
        iyy="0.00010525"
        iyz="1.0405E-09"
        izz="0.0001506" />
    </inertial>
    <visual>
      <origin
        xyz="0 0 0"
        rpy="0 0 0" />
      <geometry>
        <mesh
          filename="package://diff_robot_dan_description/meshes/power_bank_support.STL" />
      </geometry>
      <material
        name="">
        <color
          rgba="0.75294 0.75294 0.75294 1" />
      </material>
    </visual>
    <collision>
      <origin
        xyz="0 0 0"
        rpy="0 0 0" />
      <geometry>
        <mesh
          filename="package://diff_robot_dan_description/meshes/power_bank_support.STL" />
      </geometry>
    </collision>
  </link>
  <joint
    name="power_support_to_base"
    type="fixed">
    <origin
      xyz="0 0.059586 0"
      rpy="0 0 0" />
    <parent
      link="base_platform" />
    <child
      link="power_bank_support" />
    <axis
      xyz="0 0 0" />
  </joint>
  <link
    name="power_bank">
    <inertial>
      <origin
        xyz="-0.00068925 -1.3878E-17 0.0080025"
        rpy="0 0 0" />
      <mass
        value="0.20175" />
      <inertia
        ixx="8.2243E-05"
        ixy="-1.4837E-18"
        ixz="-3.5118E-08"
        iyy="0.00035012"
        iyz="3.8612E-13"
        izz="0.00042374" />
    </inertial>
    <visual>
      <origin
        xyz="0 0 0"
        rpy="0 0 0" />
      <geometry>
        <mesh
          filename="package://diff_robot_dan_description/meshes/power_bank.STL" />
      </geometry>
      <material
        name="">
        <color
          rgba="1 1 1 1" />
      </material>
    </visual>
    <collision>
      <origin
        xyz="0 0 0"
        rpy="0 0 0" />
      <geometry>
        <mesh
          filename="package://diff_robot_dan_description/meshes/power_bank.STL" />
      </geometry>
    </collision>
  </link>
  <joint
    name="power_bank_to_support"
    type="fixed">
    <origin
      xyz="0 -0.03475 -0.023"
      rpy="0 0 0" />
    <parent
      link="power_bank_support" />
    <child
      link="power_bank" />
    <axis
      xyz="0 0 0" />
  </joint>
  <link
    name="camera">
    <inertial>
      <origin
        xyz="9.7623E-09 0.0001601 -0.0081003"
        rpy="0 0 0" />
      <mass
        value="0.02241" />
      <inertia
        ixx="6.8681E-06"
        ixy="-2.8862E-12"
        ixz="6.9612E-14"
        iyy="5.8417E-06"
        iyz="1.5201E-06"
        izz="4.866E-06" />
    </inertial>
    <visual>
      <origin
        xyz="0 0 0"
        rpy="0 0 0" />
      <geometry>
        <mesh
          filename="package://diff_robot_dan_description/meshes/camera.STL" />
      </geometry>
      <material
        name="">
        <color
          rgba="0.25098 0.25098 0.25098 1" />
      </material>
    </visual>
    <collision>
      <origin
        xyz="0 0 0"
        rpy="0 0 0" />
      <geometry>
        <mesh
          filename="package://diff_robot_dan_description/meshes/camera.STL" />
      </geometry>
    </collision>
  </link>
  <joint
    name="camera_to_base"
    type="fixed">
    <origin
      xyz="0 0.15525 0.0323"
      rpy="0 0 3.1416" />
    <parent
      link="base_platform" />
    <child
      link="camera" />
    <axis
      xyz="0 0 0" />
  </joint>
  <link
    name="hex_support_m1">
    <inertial>
      <origin
        xyz="-1.2775E-08 6.9871E-10 0.018649"
        rpy="0 0 0" />
      <mass
        value="0.010437" />
      <inertia
        ixx="1.4892E-06"
        ixy="5.2591E-15"
        ixz="3.3325E-12"
        iyy="1.4892E-06"
        iyz="3.8585E-13"
        izz="5.171E-08" />
    </inertial>
    <visual>
      <origin
        xyz="0 0 0"
        rpy="0 0 0" />
      <geometry>
        <mesh
          filename="package://diff_robot_dan_description/meshes/hex_support_m1.STL" />
      </geometry>
      <material
        name="">
        <color
          rgba="0.64706 0.51765 0 1" />
      </material>
    </visual>
    <collision>
      <origin
        xyz="0 0 0"
        rpy="0 0 0" />
      <geometry>
        <mesh
          filename="package://diff_robot_dan_description/meshes/hex_support_m1.STL" />
      </geometry>
    </collision>
  </link>
  <joint
    name="hex_support_m1_to_base"
    type="fixed">
    <origin
      xyz="0.0375 -0.025 0.0025"
      rpy="0 0 2.618" />
    <parent
      link="base_platform" />
    <child
      link="hex_support_m1" />
    <axis
      xyz="0 0 0" />
  </joint>
  <link
    name="hex_support_m2">
    <inertial>
      <origin
        xyz="-1.28962488465945E-08 4.87893031531073E-10 0.0186494267227174"
        rpy="0 0 0" />
      <mass
        value="0.0104370763004655" />
      <inertia
        ixx="1.48922995809896E-06"
        ixy="3.89533633544294E-15"
        ixz="3.35524402215023E-12"
        iyy="1.48922882736901E-06"
        iyz="4.25322339240719E-13"
        izz="5.17103699125775E-08" />
    </inertial>
    <visual>
      <origin
        xyz="0 0 0"
        rpy="0 0 0" />
      <geometry>
        <mesh
          filename="package://diff_robot_dan_description/meshes/hex_support_m2.STL" />
      </geometry>
      <material
        name="">
        <color
          rgba="0.647058823529412 0.517647058823529 0 1" />
      </material>
    </visual>
    <collision>
      <origin
        xyz="0 0 0"
        rpy="0 0 0" />
      <geometry>
        <mesh
          filename="package://diff_robot_dan_description/meshes/hex_support_m2.STL" />
      </geometry>
    </collision>
  </link>
  <joint
    name="hex_support_m2_to_base"
    type="fixed">
    <origin
      xyz="0.0375 0.0325 0.0025"
      rpy="0 0 -2.618" />
    <parent
      link="base_platform" />
    <child
      link="hex_support_m2" />
    <axis
      xyz="0 0 0" />
  </joint>
  <link
    name="hex_support_m3">
    <inertial>
      <origin
        xyz="-1.27745335698481E-08 6.9871051999737E-10 0.0186494267227175"
        rpy="0 0 0" />
      <mass
        value="0.0104370763004665" />
      <inertia
        ixx="1.48922995829572E-06"
        ixy="5.25911840813087E-15"
        ixz="3.3324538622836E-12"
        iyy="1.48922882572881E-06"
        iyz="3.85848631953205E-13"
        izz="5.17103684689377E-08" />
    </inertial>
    <visual>
      <origin
        xyz="0 0 0"
        rpy="0 0 0" />
      <geometry>
        <mesh
          filename="package://diff_robot_dan_description/meshes/hex_support_m3.STL" />
      </geometry>
      <material
        name="">
        <color
          rgba="0.647058823529412 0.517647058823529 0 1" />
      </material>
    </visual>
    <collision>
      <origin
        xyz="0 0 0"
        rpy="0 0 0" />
      <geometry>
        <mesh
          filename="package://diff_robot_dan_description/meshes/hex_support_m3.STL" />
      </geometry>
    </collision>
  </link>
  <joint
    name="hex_support_m3_to_base"
    type="fixed">
    <origin
      xyz="0.0375 0.09 0.0025"
      rpy="0 0 -0.5236" />
    <parent
      link="base_platform" />
    <child
      link="hex_support_m3" />
    <axis
      xyz="0 0 0" />
  </joint>
  <link
    name="hex_support_m4">
    <inertial>
      <origin
        xyz="-1.28962490131279E-08 4.8789312520614E-10 0.0186494267227175"
        rpy="0 0 0" />
      <mass
        value="0.0104370763004655" />
      <inertia
        ixx="1.48922995809896E-06"
        ixy="3.89533628250338E-15"
        ixz="3.35524403420148E-12"
        iyy="1.48922882736901E-06"
        iyz="4.25322332714478E-13"
        izz="5.17103699125778E-08" />
    </inertial>
    <visual>
      <origin
        xyz="0 0 0"
        rpy="0 0 0" />
      <geometry>
        <mesh
          filename="package://diff_robot_dan_description/meshes/hex_support_m4.STL" />
      </geometry>
      <material
        name="">
        <color
          rgba="0.647058823529412 0.517647058823529 0 1" />
      </material>
    </visual>
    <collision>
      <origin
        xyz="0 0 0"
        rpy="0 0 0" />
      <geometry>
        <mesh
          filename="package://diff_robot_dan_description/meshes/hex_support_m4.STL" />
      </geometry>
    </collision>
  </link>
  <joint
    name="hex_support_m4_to_base"
    type="fixed">
    <origin
      xyz="-0.0375 -0.025 0.0025"
      rpy="0 0 0.5236" />
    <parent
      link="base_platform" />
    <child
      link="hex_support_m4" />
    <axis
      xyz="0 0 0" />
  </joint>
  <link
    name="hex_support_m5">
    <inertial>
      <origin
        xyz="-1.27745337988316E-08 6.98710408975067E-10 0.0186494267227175"
        rpy="0 0 0" />
      <mass
        value="0.0104370763004664" />
      <inertia
        ixx="1.48922995829569E-06"
        ixy="5.25911835519131E-15"
        ixz="3.33245387880175E-12"
        iyy="1.48922882572878E-06"
        iyz="3.85848640885222E-13"
        izz="5.17103684689375E-08" />
    </inertial>
    <visual>
      <origin
        xyz="0 0 0"
        rpy="0 0 0" />
      <geometry>
        <mesh
          filename="package://diff_robot_dan_description/meshes/hex_support_m5.STL" />
      </geometry>
      <material
        name="">
        <color
          rgba="0.647058823529412 0.517647058823529 0 1" />
      </material>
    </visual>
    <collision>
      <origin
        xyz="0 0 0"
        rpy="0 0 0" />
      <geometry>
        <mesh
          filename="package://diff_robot_dan_description/meshes/hex_support_m5.STL" />
      </geometry>
    </collision>
  </link>
  <joint
    name="hex_support_m5_to_base"
    type="fixed">
    <origin
      xyz="-0.0375 0.0325 0.0025"
      rpy="0 0 -0.5236" />
    <parent
      link="base_platform" />
    <child
      link="hex_support_m5" />
    <axis
      xyz="0 0 0" />
  </joint>
  <link
    name="hex_support_m6">
    <inertial>
      <origin
        xyz="0 0 0"
        rpy="0 0 0" />
      <mass
        value="0" />
      <inertia
        ixx="0"
        ixy="0"
        ixz="0"
        iyy="0"
        iyz="0"
        izz="0" />
    </inertial>
    <visual>
      <origin
        xyz="0 0 0"
        rpy="0 0 0" />
      <geometry>
        <mesh
          filename="package://diff_robot_dan_description/meshes/hex_support_m6.STL" />
      </geometry>
      <material
        name="">
        <color
          rgba="1 1 1 1" />
      </material>
    </visual>
    <collision>
      <origin
        xyz="0 0 0"
        rpy="0 0 0" />
      <geometry>
        <mesh
          filename="package://diff_robot_dan_description/meshes/hex_support_m6.STL" />
      </geometry>
    </collision>
  </link>
  <joint
    name="hex_support_m6_to_base"
    type="fixed">
    <origin
      xyz="-0.0375 0.09 0.0025"
      rpy="0 0 -2.618" />
    <parent
      link="base_platform" />
    <child
      link="hex_support_m6" />
    <axis
      xyz="0 0 0" />
  </joint>
</robot>
